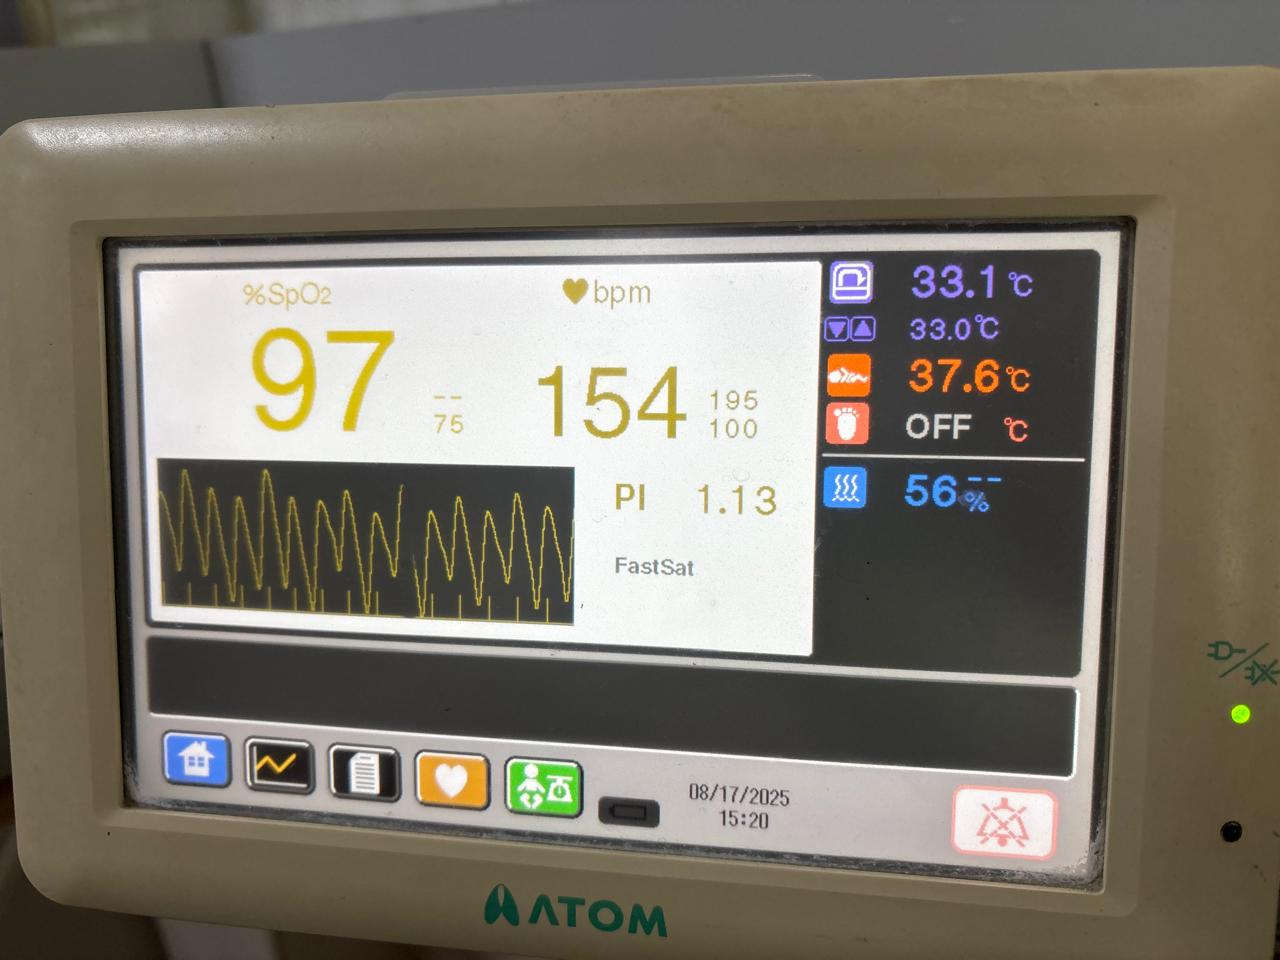heart_rate_value: (513, 345, 692, 460)
humidity_value: (886, 465, 965, 519)
skin_temp_value: (890, 345, 1002, 401)
spo2_value: (230, 321, 412, 445)
